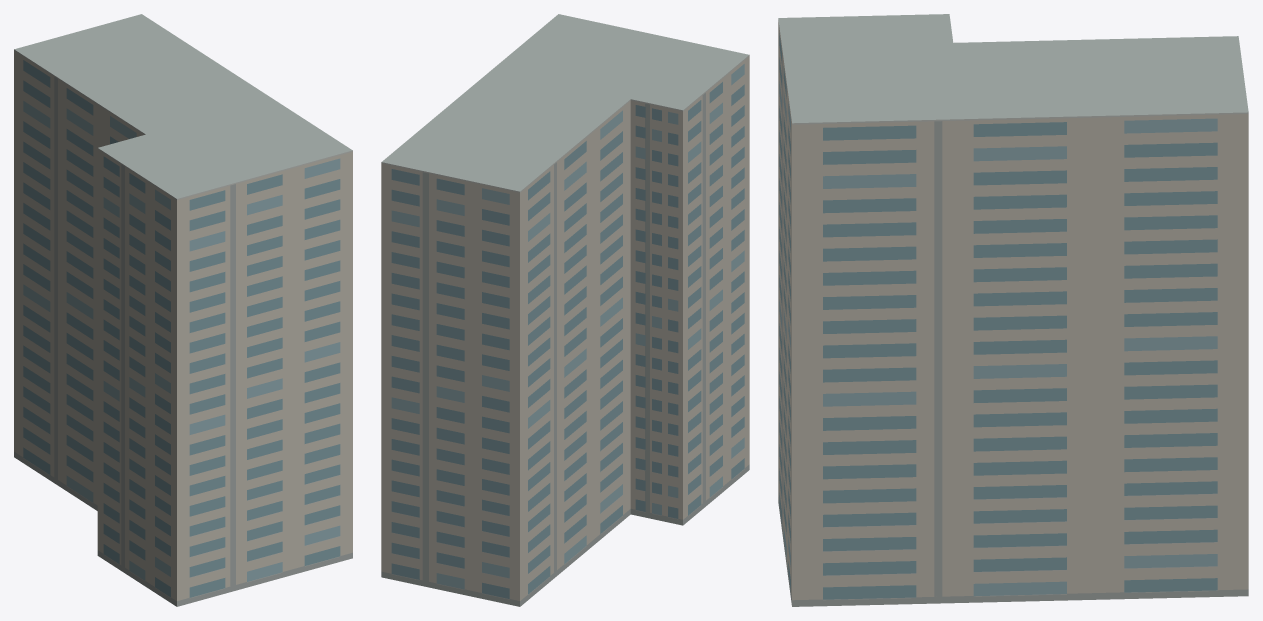
Rendered from residential-02d5d936-8080-47bd-8a23-b03264c44004.glb.
3 views of the same model, side by side, from view 1: azimuth 30°, elevation 25°; view 2: azimuth 150°, elevation 25°; view 3: azimuth 270°, elevation 25° (orthographic). The views are drawn at different scales.
Parts seen in each view (by area): view 1: residential-02d5d936-8080-47bd-8a23-b03264c44004.tmp; view 2: residential-02d5d936-8080-47bd-8a23-b03264c44004.tmp; view 3: residential-02d5d936-8080-47bd-8a23-b03264c44004.tmp.
Boxes of the visible parts, x1,y1,x2,y2 form: residential-02d5d936-8080-47bd-8a23-b03264c44004.tmp: (14,14,352,606); residential-02d5d936-8080-47bd-8a23-b03264c44004.tmp: (381,14,749,606); residential-02d5d936-8080-47bd-8a23-b03264c44004.tmp: (778,14,1248,606).
Size of the model in its own units: 38.74 by 80 by 70.52.
